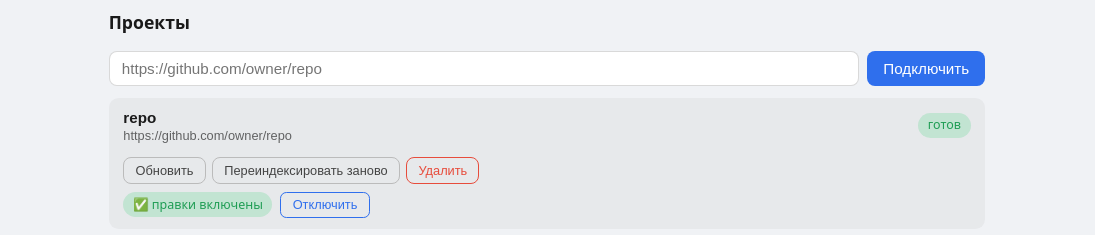
ProjectsPanel › кнопка «Отключить» вызывает deleteProjectToken и возвращает read-only
The image size is (1095, 235).
Click the button "Отключить". click: (325, 205)
box: [280, 192, 370, 218]
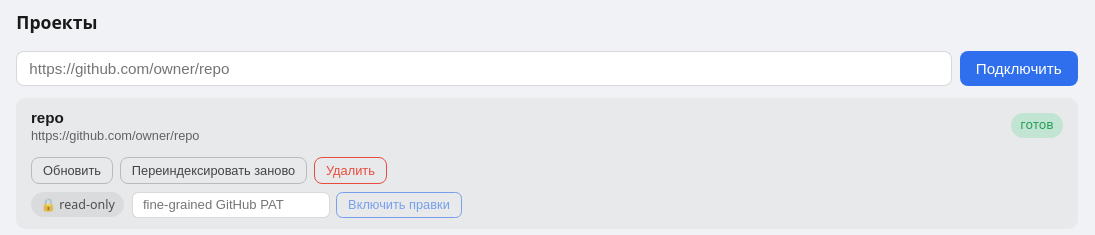
Now the text "🔒 read-only" is shown, box [31, 192, 124, 217]
